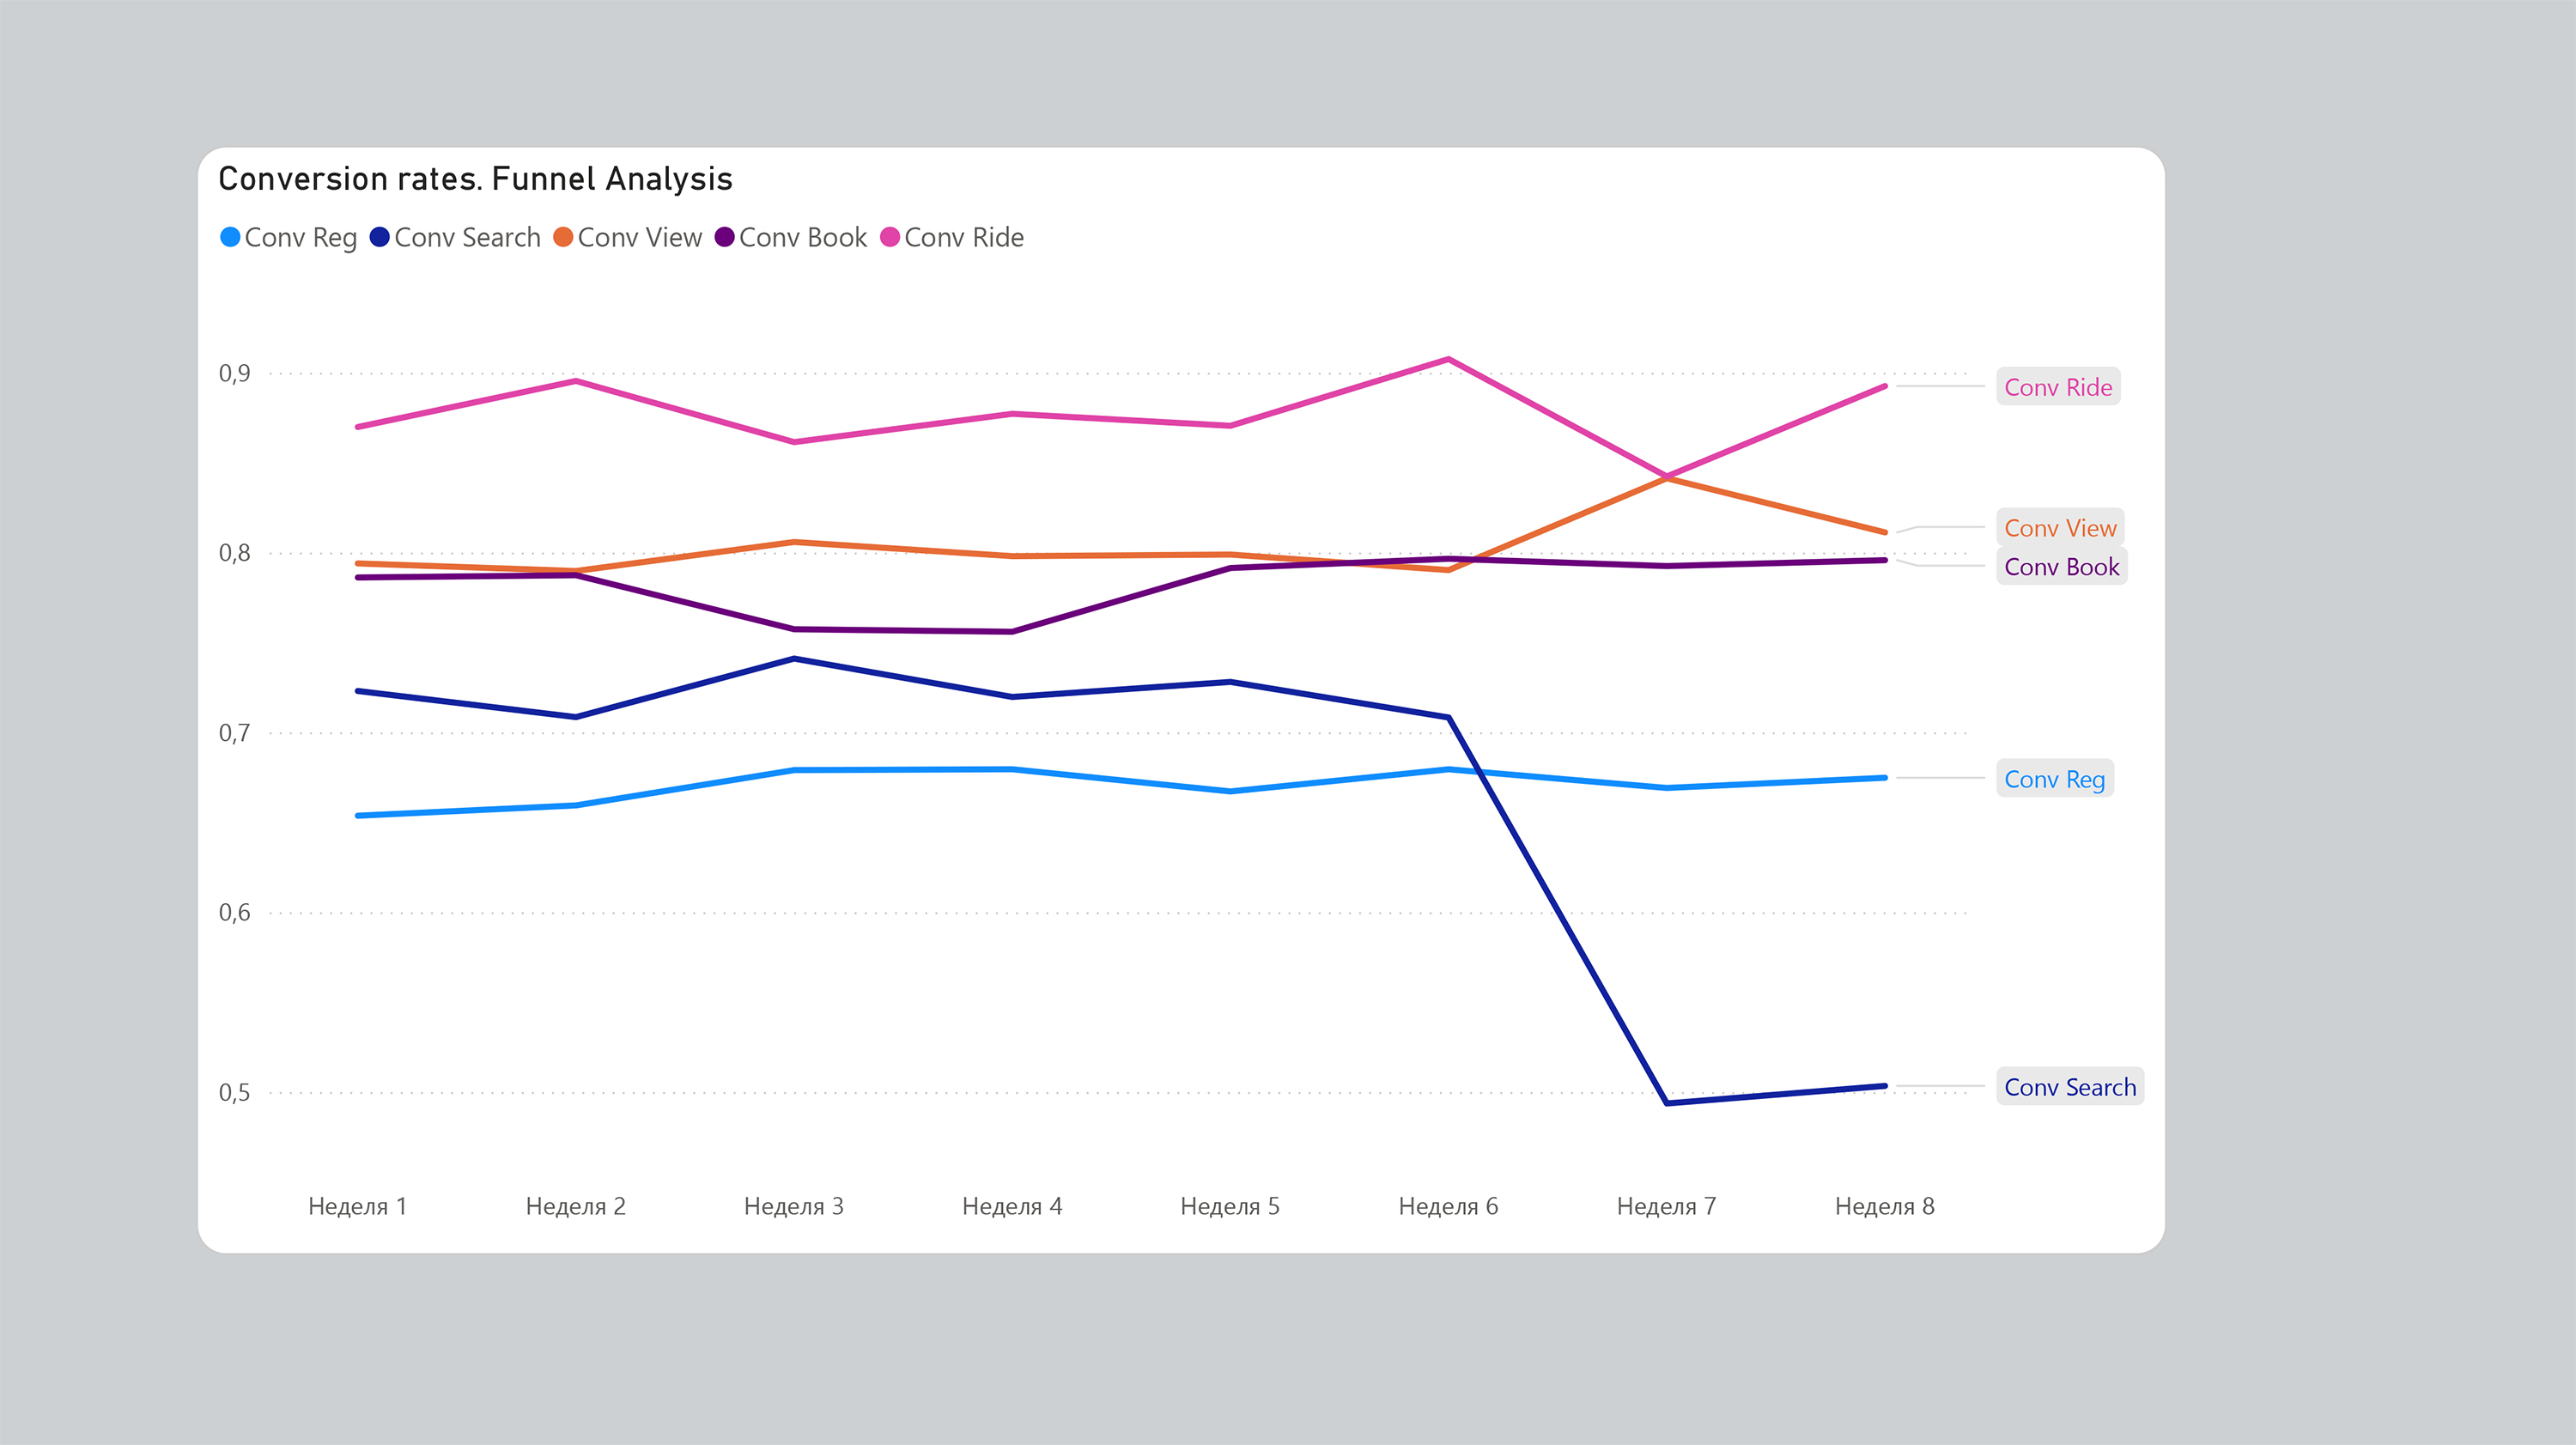

The page's visual inventory and layout, read from the dashboard file:
{"tool":"powerbi","page":{"name":"FUNNEL_CONV_RATES","canvas":[1280,720],"ordinal":2},"visuals":[{"type":"lineChart","title":"Conversion rates. Funnel Analysis","fields":{"Category":["Данные воронки.Неделя"],"Y":["Данные воронки.Conv Reg","Данные воронки.Conv Search","Данные воронки.Conv View","Данные воронки.Conv Book","Данные воронки.Conv Ride"]},"box":[100,75,977,550],"z":0}]}

Visuals, with their boxes in screenshot pixels (x1, y1, x2, y2), scaled from the page's 1280x720 canvas onto the 2576x1445 screenshot:
"Conversion rates. Funnel Analysis" lineChart: region(201, 150, 2167, 1254)
